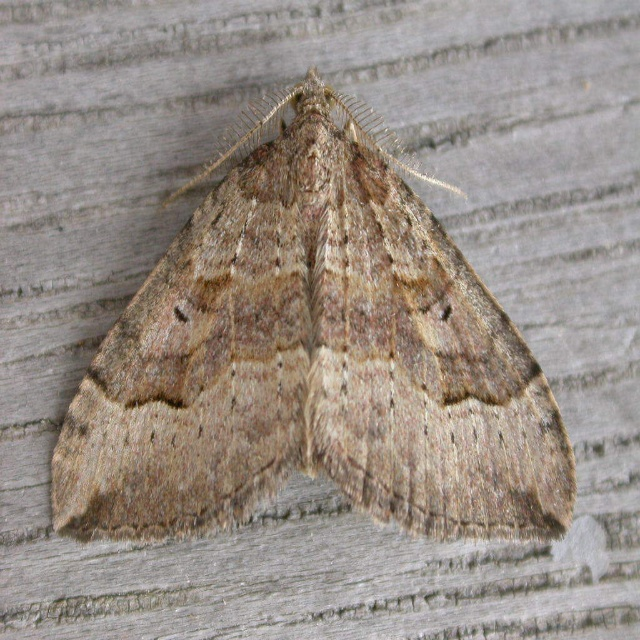Moths and butterflies: (49, 65, 580, 551)
